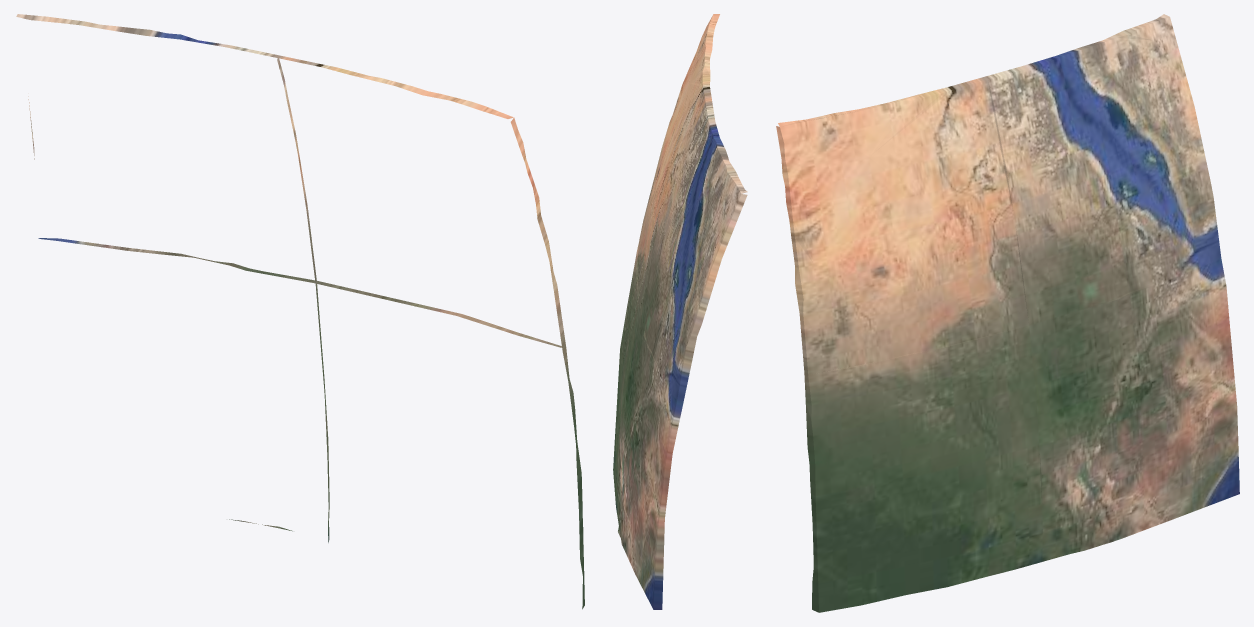
3 views of the same model, side by side, from view 1: azimuth 30°, elevation 25°; view 2: azimuth 150°, elevation 25°; view 3: azimuth 270°, elevation 25° (orthographic). The views are drawn at different scales.
Size of the model in its own units: 1764398 by 2458707 by 2284419.
1 material, 1 textured.
